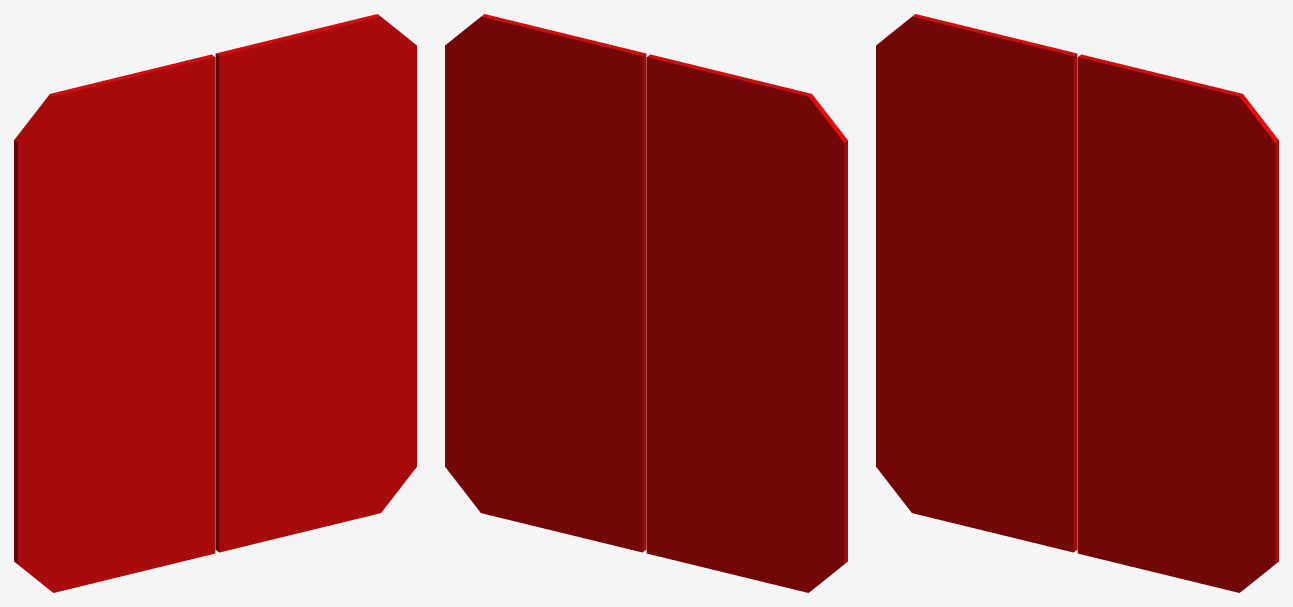
File: Cago_Door_01.fbx
The picture shows the model from 3 angles, left to right: view 1: azimuth 30°, elevation 25°; view 2: azimuth 150°, elevation 25°; view 3: azimuth 330°, elevation 25°; orthographic projection.
Visible parts, largest first — view 1: CagoDoor_01; view 2: CagoDoor_01; view 3: CagoDoor_01.
Part boxes in pixels (left/top/right/bottom): CagoDoor_01: left=14, top=14, right=416, bottom=592; CagoDoor_01: left=445, top=14, right=847, bottom=592; CagoDoor_01: left=876, top=14, right=1278, bottom=592.
Bounding box in the file's own units: 190 × 226 × 3.
